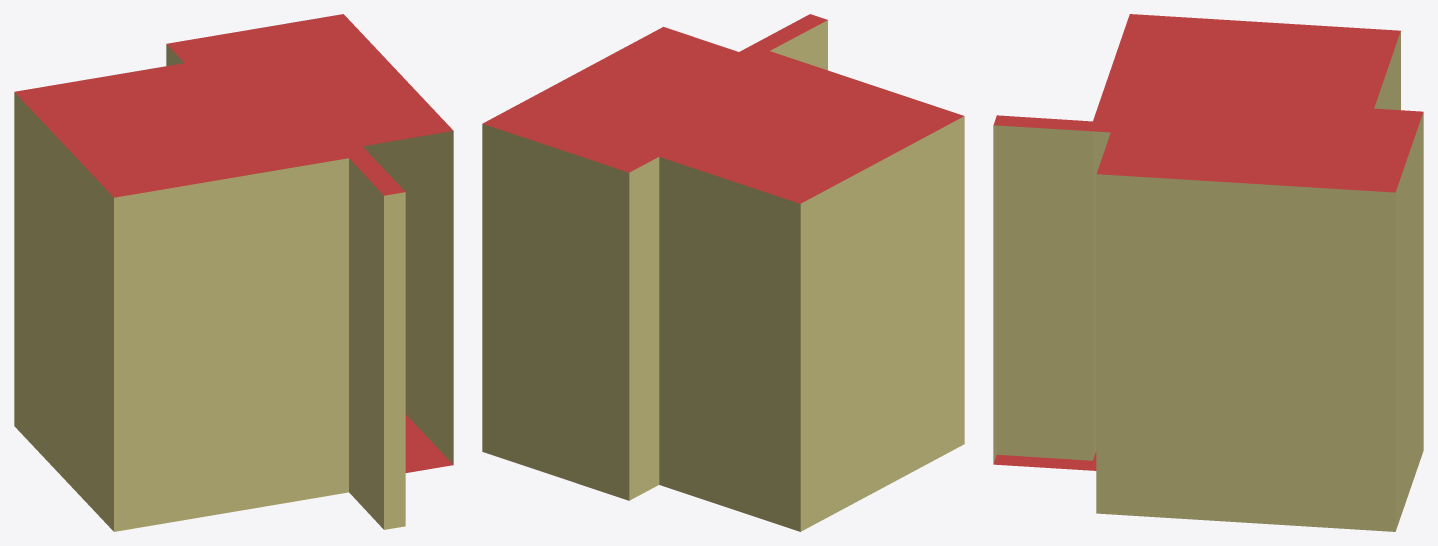
3 renders of one model, left to right at view 1: azimuth 30°, elevation 25°; view 2: azimuth 150°, elevation 25°; view 3: azimuth 270°, elevation 25°, orthographic. The views are drawn at different scales.
Size of the model in its own units: 9.09 by 9.25 by 8.05.
